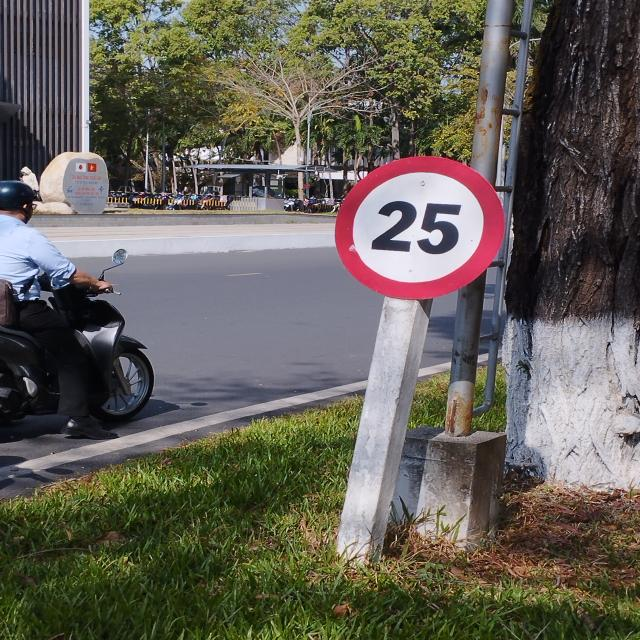Tre_Em: (335, 155, 504, 302)
